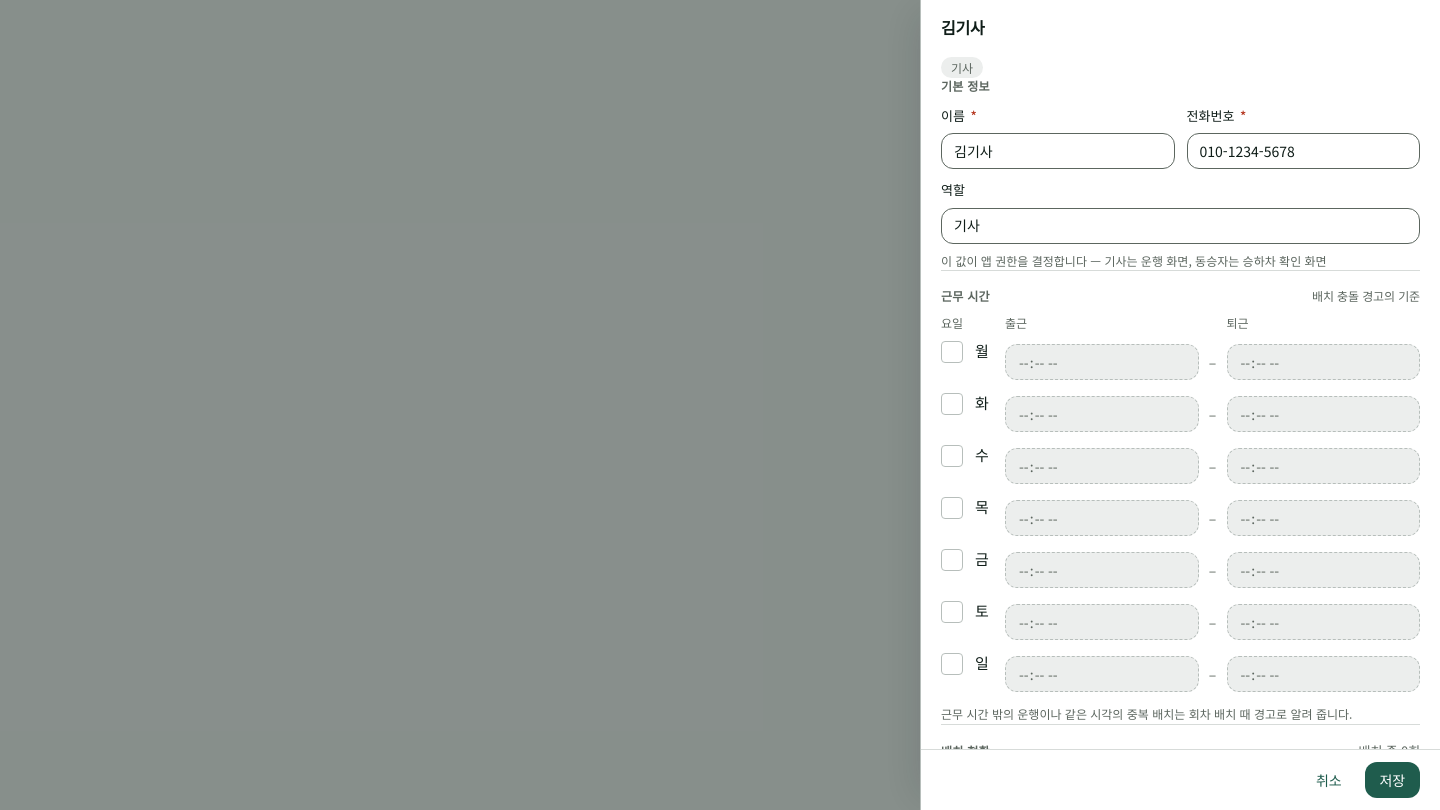
ManagerForm — 등록 실패 갈래 › 수정이 409 MANAGER_ASSIGNED 로 거부되면 배치 해제 안내 문구를 보여준다
Click the button "저장": (1392, 780) [1364,762,1420,798]
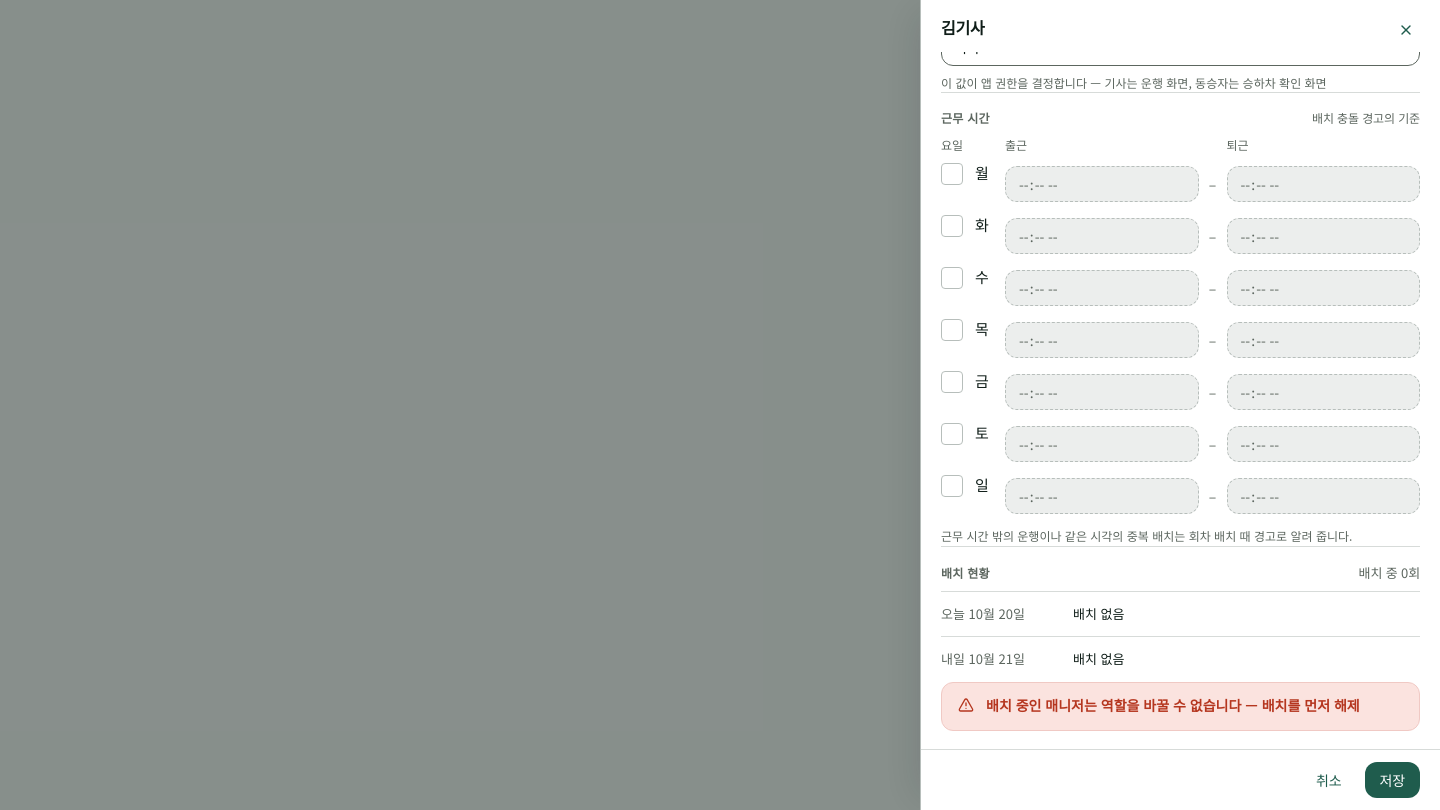
expect the text "배치 중인 매니저는 역할을 바꿀 수 없습니다 — 배치를 먼저 해제" is shown: met, box [986,695,1403,716]
